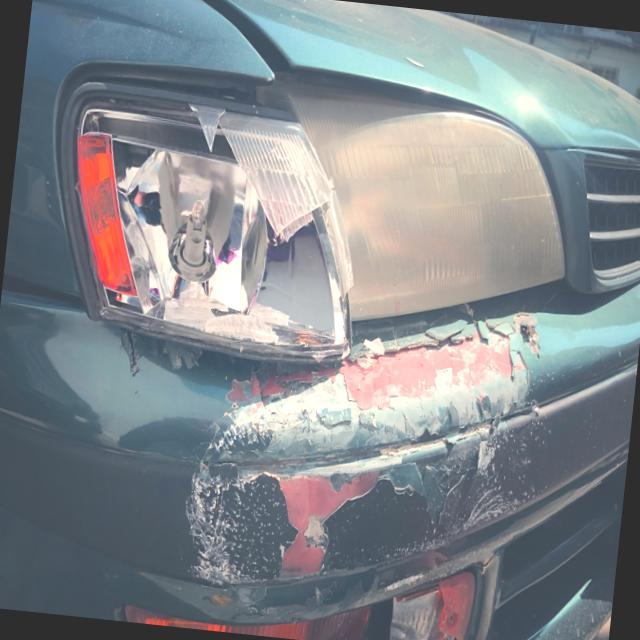Dechirure: (513, 313, 546, 348)
Phare abime: (59, 76, 364, 364)
Rayure: (173, 298, 549, 622)
